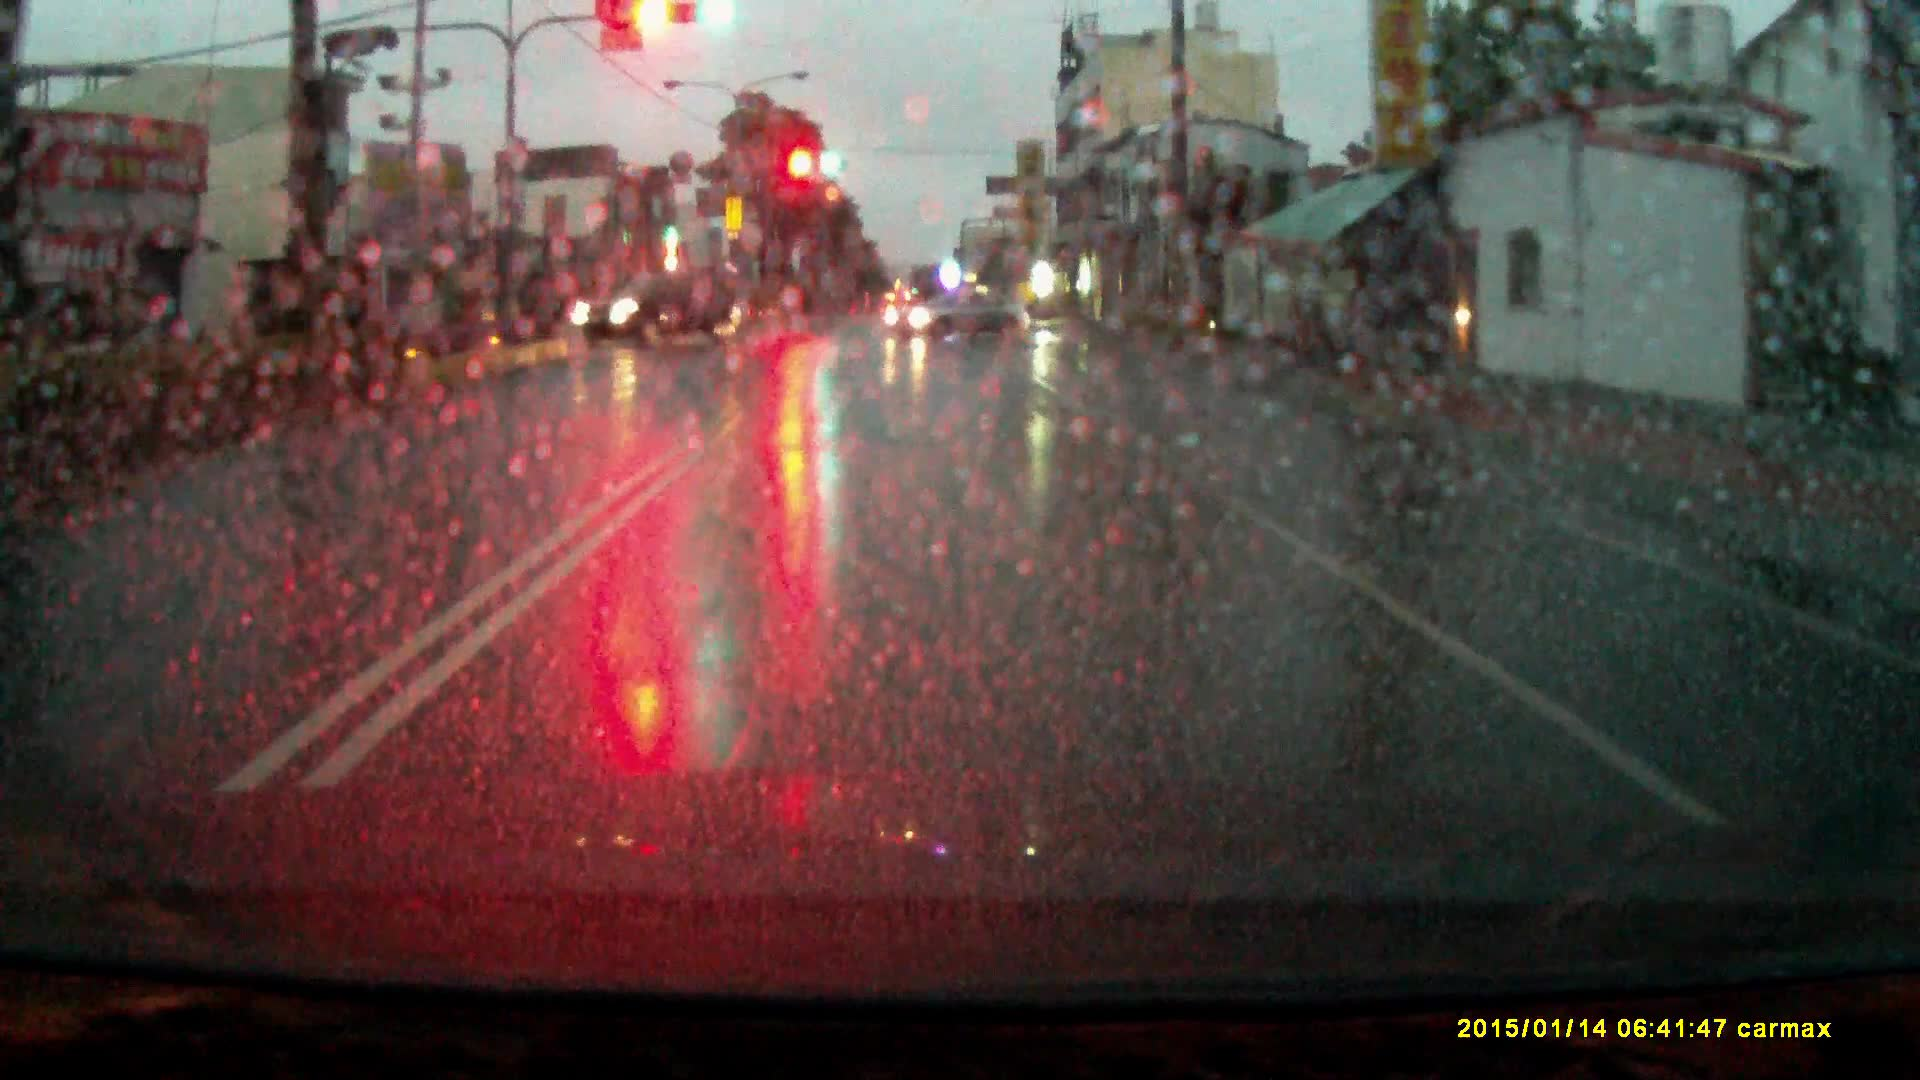vehicle: (572, 274, 745, 360), (885, 291, 1035, 344)
